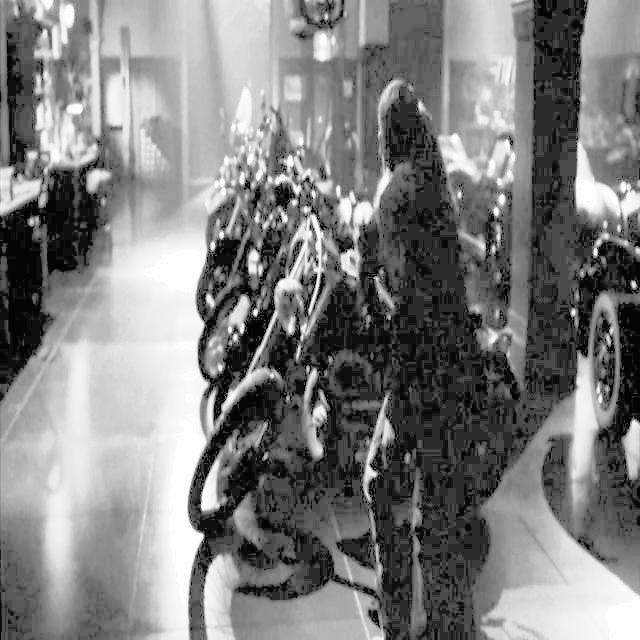Car: (578, 204, 640, 449)
Motorcycle: (189, 231, 514, 554), (199, 183, 498, 406)
